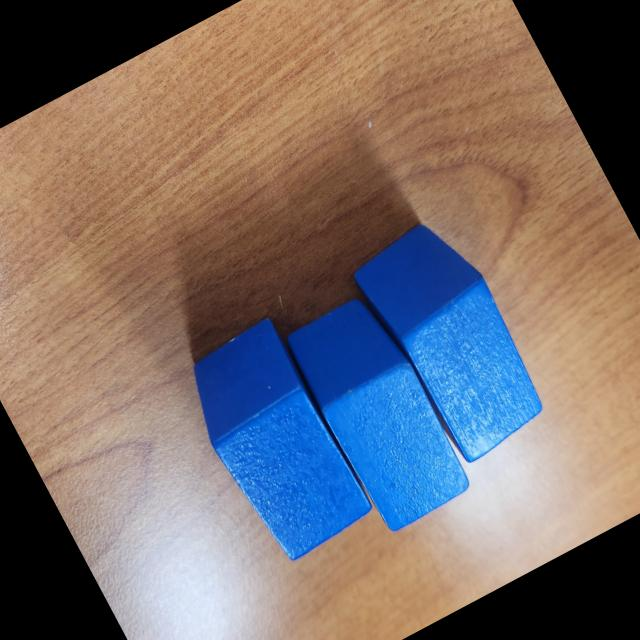blue: (345, 206, 559, 472), (170, 312, 383, 572), (281, 288, 478, 537)
